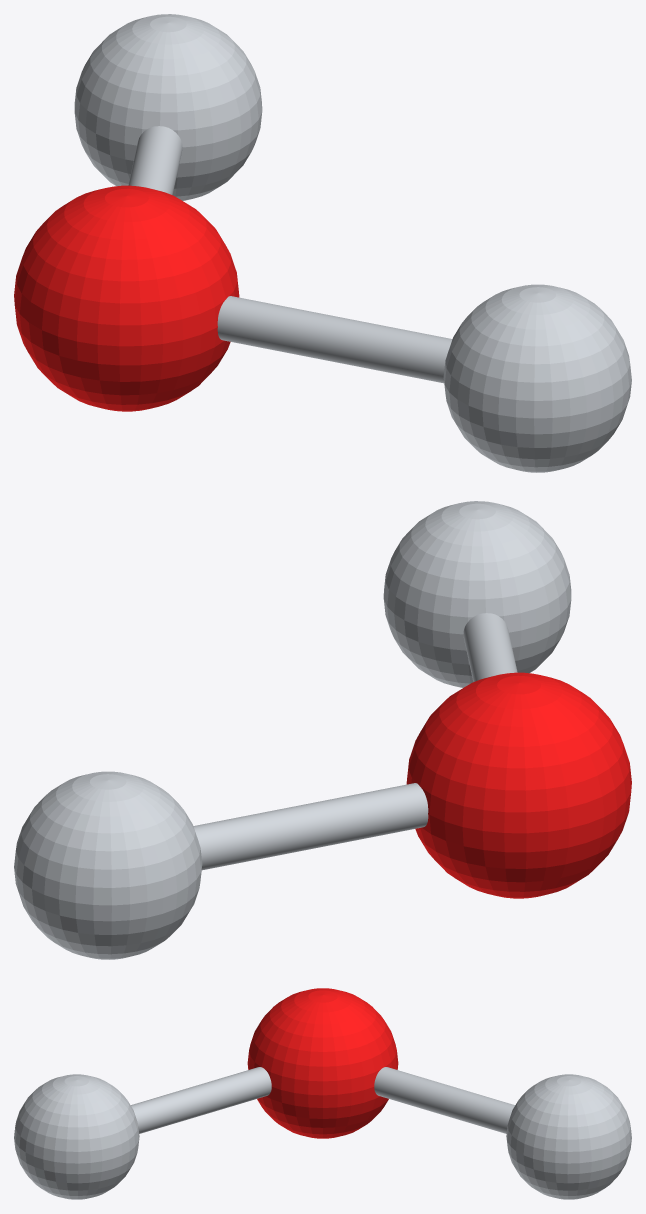
File: water.fbx
3 renders of one model, top to bottom at view 1: azimuth 30°, elevation 25°; view 2: azimuth 150°, elevation 25°; view 3: azimuth 270°, elevation 25°, orthographic. The views are drawn at different scales.
Visible parts, largest first — view 1: water; view 2: water; view 3: water.
Boxes of the visible parts, <box> form: water: <box>14,14,631,472</box>; water: <box>14,501,631,959</box>; water: <box>14,988,631,1199</box>.
Size of the model in its own units: 74.56 by 36 by 148.
